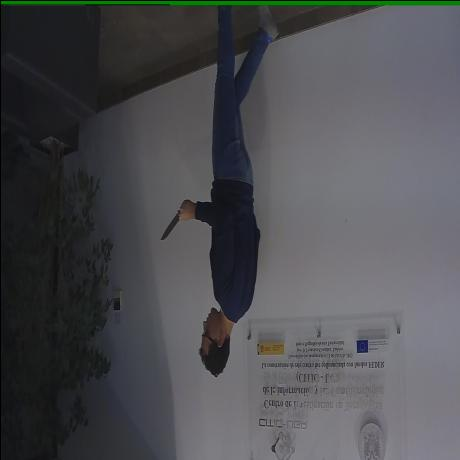1: (178, 4, 282, 374)
weapon: (160, 201, 188, 240)
